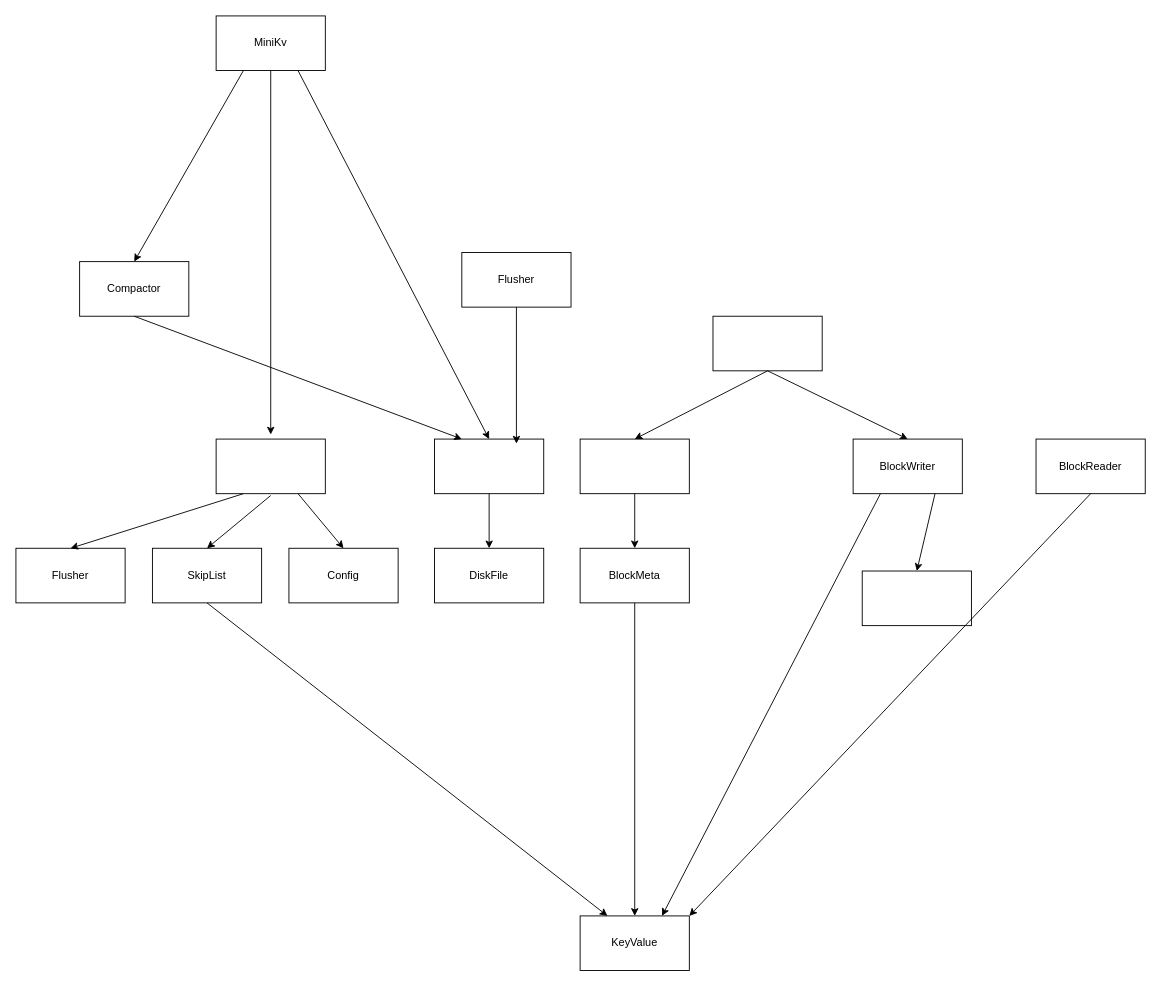
This 1161x986 diagram has some shape labels left out. Here are the shapes that lost their labels. From the top down, the centre of each, then its label:
At point 767,343: "DiskFileWriter".
At point 270,466: "MemStore".
At point 489,466: "DiskStore".
At point 634,466: "BlockIndexWriter".
At point 916,598: "BloomFilter".
